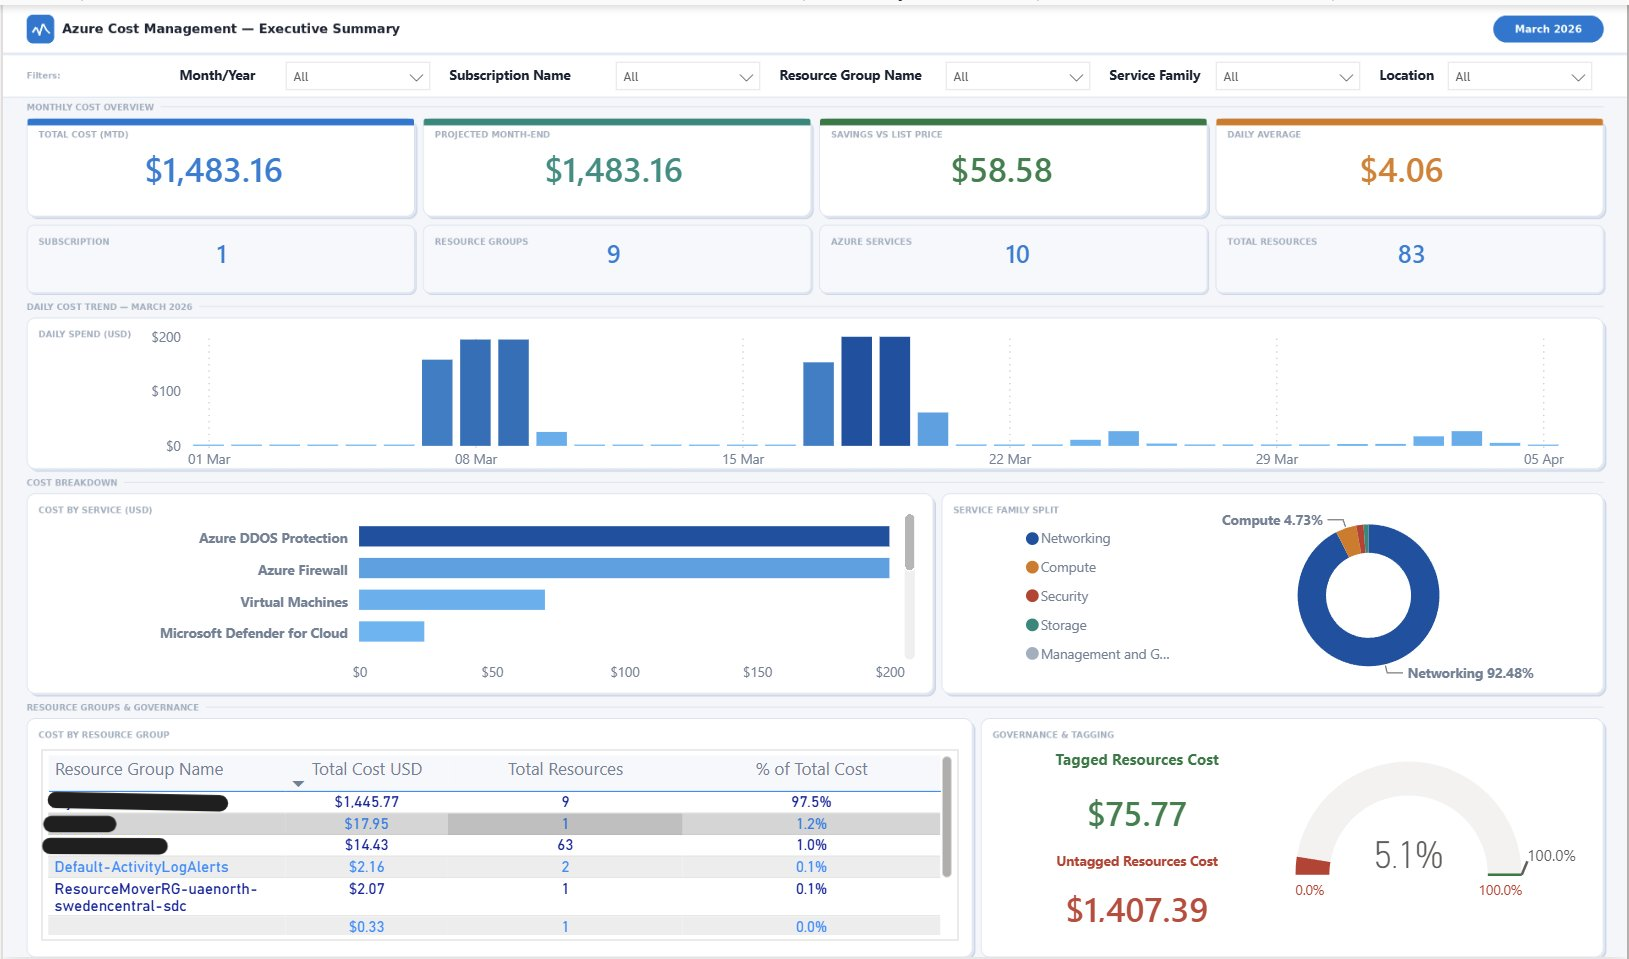

The dashboard page shown, as its layout file describes it:
{"tool":"powerbi","page":{"name":"Executive Summary","canvas":[1280,750],"ordinal":0},"visuals":[{"type":"slicer","fields":{"Values":["Date.Month Year"]},"box":[212.8,35,134.2,36.8],"z":0},{"type":"slicer","fields":{"Values":["cost-analysis.subscriptionName"]},"box":[472.6,35,134.2,36.8],"z":1000},{"type":"slicer","fields":{"Values":["cost-analysis.resourceGroupName"]},"box":[732.5,35,134.2,36.8],"z":2000},{"type":"slicer","fields":{"Values":["cost-analysis.serviceFamily"]},"box":[946.2,35,134.2,36.8],"z":3000},{"type":"textbox","box":[133.3,40.2,79.5,32.5],"z":4000},{"type":"slicer","fields":{"Values":["cost-analysis.location"]},"box":[1129.1,35,134.2,36.8],"z":5000},{"type":"textbox","box":[1080.3,40.2,59,32.5],"z":6000},{"type":"textbox","box":[867,40,89,33],"z":7000},{"type":"textbox","box":[606.8,40.2,125.6,32.5],"z":8000},{"type":"textbox","box":[347,40.2,125.6,32.5],"z":9000},{"type":"cardVisual","fields":{"Data":["_Measures.Total Cost USD"]},"box":[58,90,215,74],"z":10000},{"type":"cardVisual","fields":{"Data":["_Measures.Projected Monthly Cost"]},"box":[373,90,215,74],"z":11000},{"type":"cardVisual","fields":{"Data":["_Measures.Total Savings USD"]},"box":[679,90,215,74],"z":12000},{"type":"cardVisual","fields":{"Data":["_Measures.Daily Avg Cost"]},"box":[995,90,215,74],"z":13000},{"type":"cardVisual","fields":{"Data":["_Measures.Distinct Subscriptions"]},"box":[84,164,178,60],"z":14000},{"type":"cardVisual","fields":{"Data":["_Measures.Distinct Resource Groups"]},"box":[392,164,178,60],"z":15000},{"type":"cardVisual","fields":{"Data":["_Measures.Distinct Services"]},"box":[711,164,178,60],"z":16000},{"type":"cardVisual","fields":{"Data":["_Measures.Distinct Resources"]},"box":[1021,164,178,60],"z":17000},{"type":"clusteredColumnChart","fields":{"Y":["_Measures.Total Cost USD"],"Category":["Date.Date"]},"box":[112,247,1124,128],"z":18000},{"type":"clusteredBarChart","fields":{"Y":["_Measures.Total Cost USD"],"Category":["cost-analysis.meterCategory"]},"box":[117,387,607,155],"z":19000},{"type":"donutChart","fields":{"Category":["cost-analysis.serviceFamily"],"Y":["_Measures.Total Cost USD"]},"box":[800,387,426,155],"z":20000},{"type":"tableEx","fields":{"Values":["cost-analysis.resourceGroupName","_Measures.Total Cost USD","_Measures.Distinct Resources","_Measures.% of Total Cost"]},"box":[30,586.7,723.3,151.7],"z":21000},{"type":"gauge","fields":{"Y":["_Measures.Tagging Coverage %"]},"box":[1013.2,569.1,236.8,167.6],"z":22000},{"type":"cardVisual","title":"Untagged Resources Cost","fields":{"Data":["_Measures.Untagged Resources Cost"]},"box":[786.6,666.9,214.4,73.7],"z":23000},{"type":"cardVisual","title":"Tagged Resources Cost","fields":{"Data":["_Measures.Tagged Resources Cost"]},"box":[786.8,586.8,214.7,80.9],"z":24000}]}

Visuals, with their boxes in screenshot pixels (x1, y1, x2, y2), scaled from the page's 1280x750 canvas onto the 1629x959 screenshot:
slicer - Date.Month Year: Rect(271, 45, 442, 92)
slicer - cost-analysis.subscriptionName: Rect(601, 45, 772, 92)
slicer - cost-analysis.resourceGroupName: Rect(932, 45, 1103, 92)
slicer - cost-analysis.serviceFamily: Rect(1204, 45, 1375, 92)
textbox: Rect(170, 51, 271, 93)
slicer - cost-analysis.location: Rect(1437, 45, 1608, 92)
textbox: Rect(1375, 51, 1450, 93)
textbox: Rect(1103, 51, 1217, 93)
textbox: Rect(772, 51, 932, 93)
textbox: Rect(442, 51, 601, 93)
cardVisual - _Measures.Total Cost USD: Rect(74, 115, 347, 210)
cardVisual - _Measures.Projected Monthly Cost: Rect(475, 115, 748, 210)
cardVisual - _Measures.Total Savings USD: Rect(864, 115, 1138, 210)
cardVisual - _Measures.Daily Avg Cost: Rect(1266, 115, 1540, 210)
cardVisual - _Measures.Distinct Subscriptions: Rect(107, 210, 333, 286)
cardVisual - _Measures.Distinct Resource Groups: Rect(499, 210, 725, 286)
cardVisual - _Measures.Distinct Services: Rect(905, 210, 1131, 286)
cardVisual - _Measures.Distinct Resources: Rect(1299, 210, 1526, 286)
clusteredColumnChart - _Measures.Total Cost USD x Date.Date: Rect(143, 316, 1573, 480)
clusteredBarChart - _Measures.Total Cost USD x cost-analysis.meterCategory: Rect(149, 495, 921, 693)
donutChart - cost-analysis.serviceFamily x _Measures.Total Cost USD: Rect(1018, 495, 1560, 693)
tableEx - cost-analysis.resourceGroupName x _Measures.Total Cost USD: Rect(38, 750, 959, 944)
gauge - _Measures.Tagging Coverage %: Rect(1289, 728, 1591, 942)
"Untagged Resources Cost" cardVisual: Rect(1001, 853, 1274, 947)
"Tagged Resources Cost" cardVisual: Rect(1001, 750, 1275, 854)
